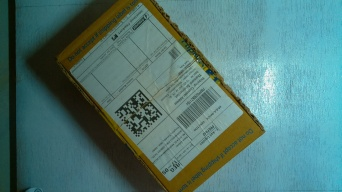a: (53, 4, 265, 192)
